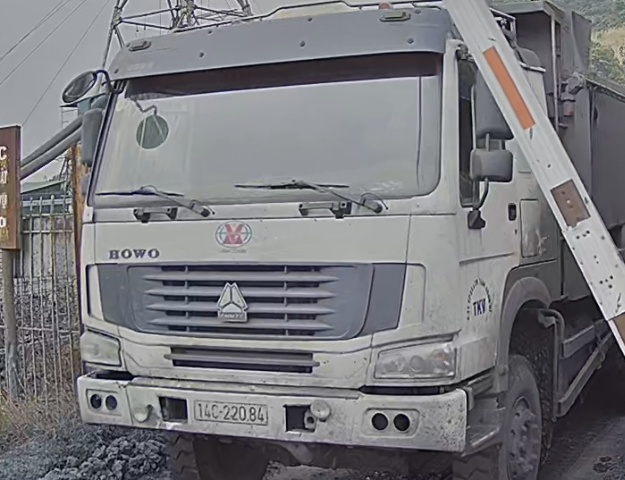vehicle plate: (188, 394, 273, 428)
